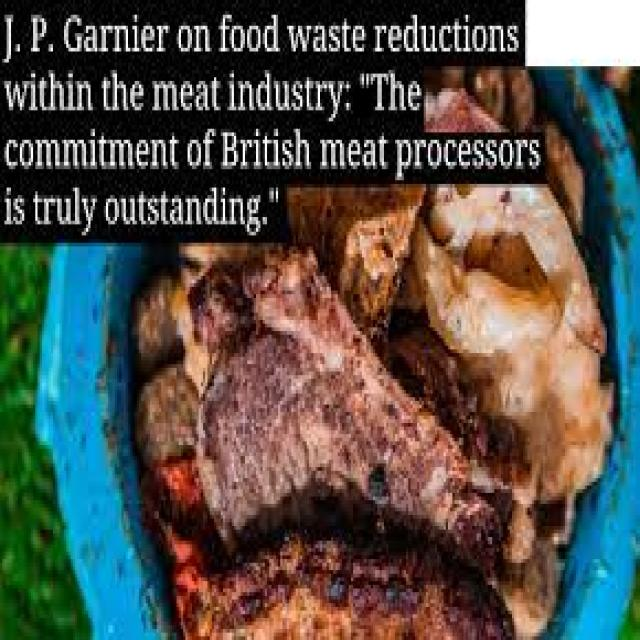Organik: (98, 276, 569, 638), (401, 187, 624, 514)
